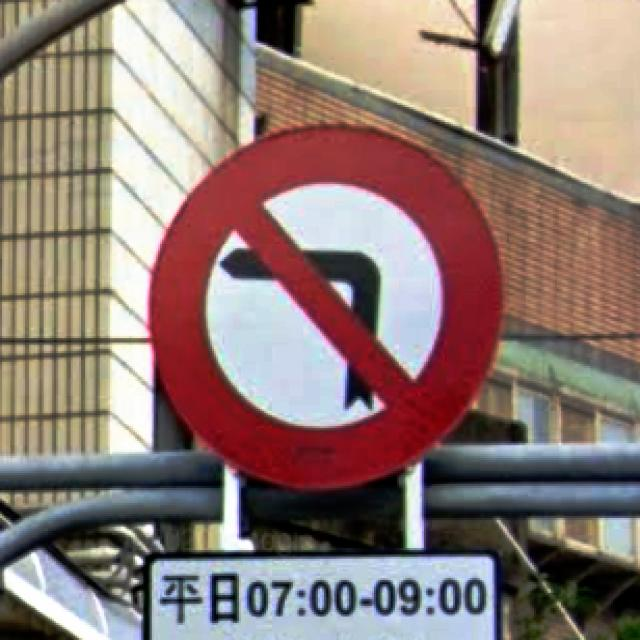noturnleft: (143, 118, 507, 492)
